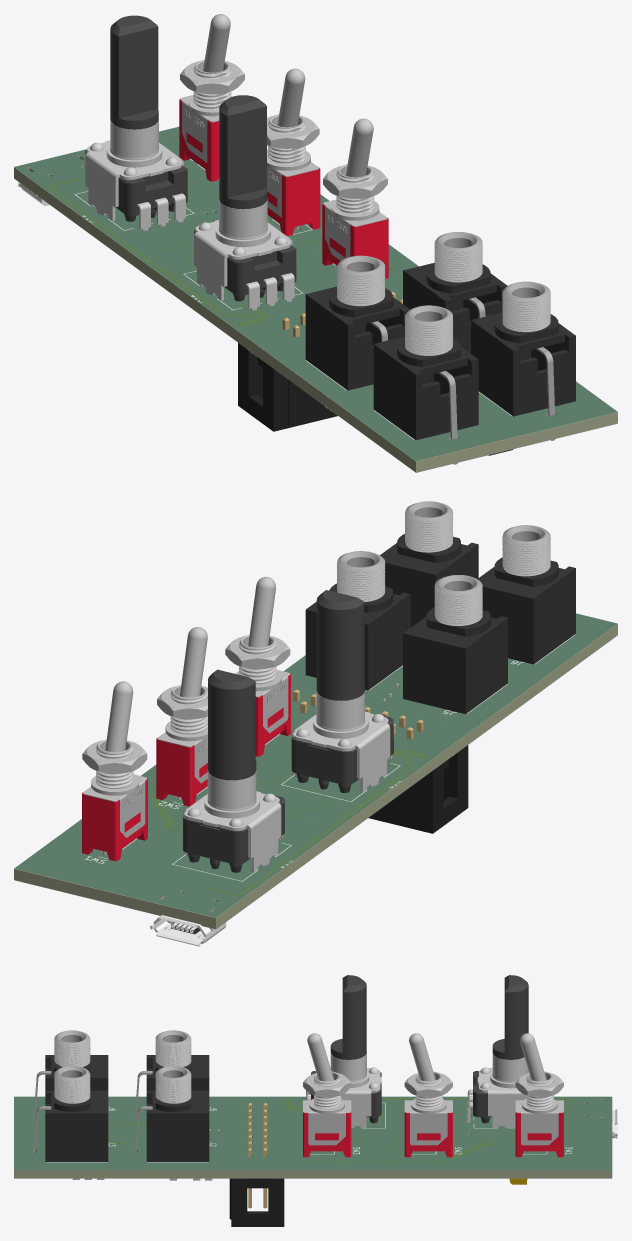
The model's file is board.glb.
3 views of the same model, one above another, from view 1: azimuth 30°, elevation 25°; view 2: azimuth 150°, elevation 25°; view 3: azimuth 270°, elevation 25° (orthographic). The views are drawn at different scales.
Visible parts, largest first — view 1: =>[0:1:1:6] (×4), =>[0:1:1:29], =>[0:1:1:27], RV1, RV2, SW3, SW2, SW1, J10, =>[0:1:1:23], =>[0:1:1:28]; view 2: =>[0:1:1:6] (×4), =>[0:1:1:29], =>[0:1:1:27], RV2, RV1, SW1, SW2, SW3, J10, J1, =>[0:1:1:23], =>[0:1:1:25]; view 3: =>[0:1:1:29], =>[0:1:1:27], =>[0:1:1:6] (×4), RV1, RV2, SW3, SW1, SW2, J10, =>[0:1:1:28], =>[0:1:1:25].
Boxes of the visible parts, x1,y1,x2,y2 form: =>[0:1:1:6] (×4): (305,232,575,464); =>[0:1:1:29]: (14,127,617,472); =>[0:1:1:27]: (14,126,617,460); RV1: (85,15,187,230); RV2: (194,95,296,310); SW3: (322,118,388,278); SW2: (267,68,320,236); SW1: (179,14,244,181); J10: (238,291,402,431); =>[0:1:1:23]: (48,178,481,397); =>[0:1:1:28]: (15,179,617,472); =>[0:1:1:6] (×4): (305,501,575,714); =>[0:1:1:29]: (14,614,617,928); =>[0:1:1:27]: (14,613,617,917); RV2: (291,590,393,792); RV1: (182,669,284,872); SW1: (82,681,147,861); SW2: (156,627,207,806); SW3: (225,576,290,756); J10: (293,689,468,833); J1: (150,915,226,946); =>[0:1:1:23]: (151,720,444,895); =>[0:1:1:25]: (85,634,575,881); =>[0:1:1:29]: (14,1097,612,1178); =>[0:1:1:27]: (14,1096,612,1169); =>[0:1:1:6] (×4): (33,1030,209,1161); RV1: (467,975,528,1128); RV2: (306,975,381,1128); SW3: (303,1033,351,1157); SW1: (515,1033,563,1157); SW2: (404,1033,452,1157); J10: (229,1103,284,1226); =>[0:1:1:28]: (14,1178,611,1178); =>[0:1:1:25]: (46,1102,572,1162).
Size of the model in its own units: 0.029 by 0.0356 by 0.101.
